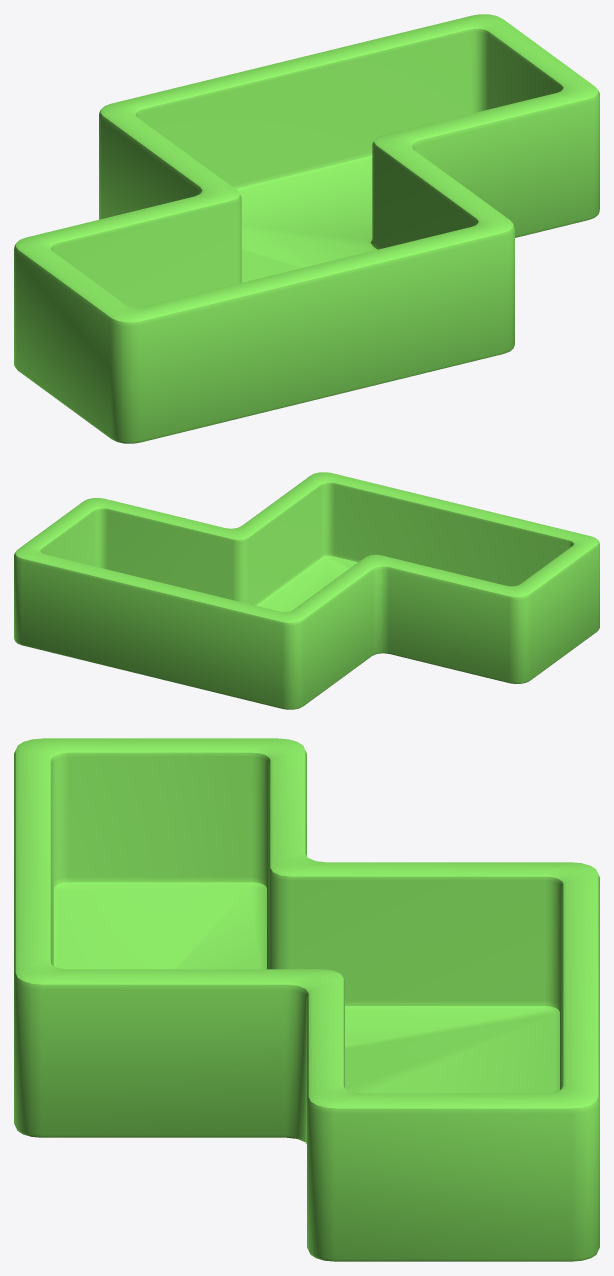
The picture shows the model from 3 angles, top to bottom: view 1: azimuth 30°, elevation 25°; view 2: azimuth 150°, elevation 25°; view 3: azimuth 270°, elevation 25°; orthographic projection. The views are drawn at different scales.
Parts seen in each view (by area): view 1: Shape_S4; view 2: Shape_S4; view 3: Shape_S4.
Boxes of the visible parts, x1,y1,x2,y2 form: Shape_S4: (14,14,599,443); Shape_S4: (14,472,599,709); Shape_S4: (14,738,599,1261).
Size of the model in its own units: 2.55 by 0.5 by 1.7.
